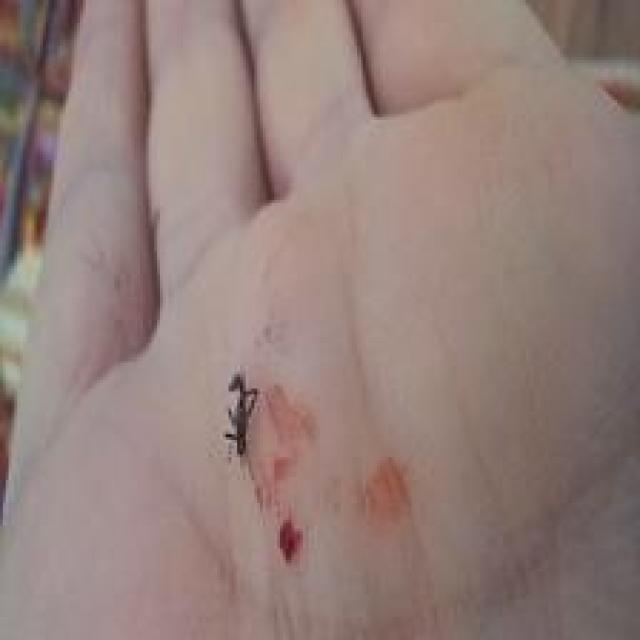Aedes albopictus: (223, 370, 260, 461)
